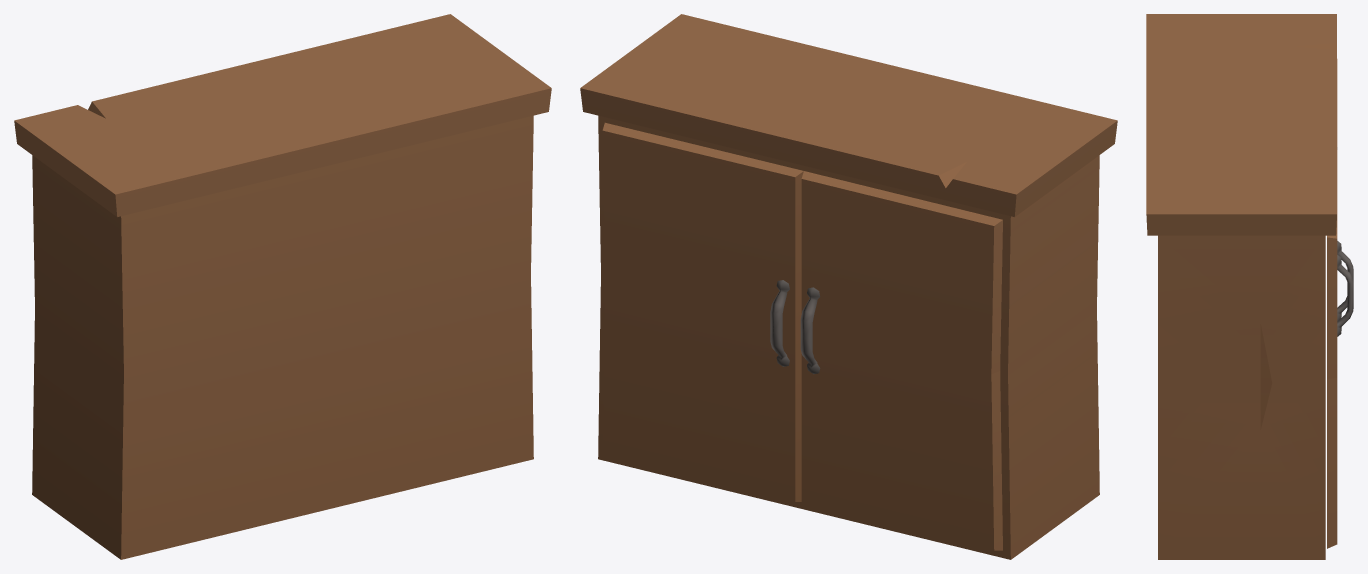
File: CabinetSolidDoors.fbx
3 renders of one model, left to right at view 1: azimuth 30°, elevation 25°; view 2: azimuth 150°, elevation 25°; view 3: azimuth 270°, elevation 25°, orthographic. The views are drawn at different scales.
Visible parts, largest first — view 1: CabinetSolidDoors; view 2: CabinetSolidDoors, CabinetSolidDoors_Door2, CabinetSolidDoors_Door1; view 3: CabinetSolidDoors, CabinetSolidDoors_Door1, CabinetSolidDoors_Door2.
Boxes of the visible parts, x1=… form: CabinetSolidDoors: x1=14, y1=14, x2=551, y2=559; CabinetSolidDoors: x1=580, y1=14, x2=1117, y2=559; CabinetSolidDoors_Door2: x1=800, y1=171, x2=1002, y2=550; CabinetSolidDoors_Door1: x1=602, y1=122, x2=803, y2=501; CabinetSolidDoors: x1=1146, y1=14, x2=1336, y2=559; CabinetSolidDoors_Door1: x1=1327, y1=150, x2=1353, y2=548; CabinetSolidDoors_Door2: x1=1337, y1=59, x2=1353, y2=320.
Size of the model in its own units: 79.29 by 64.72 by 34.62.
